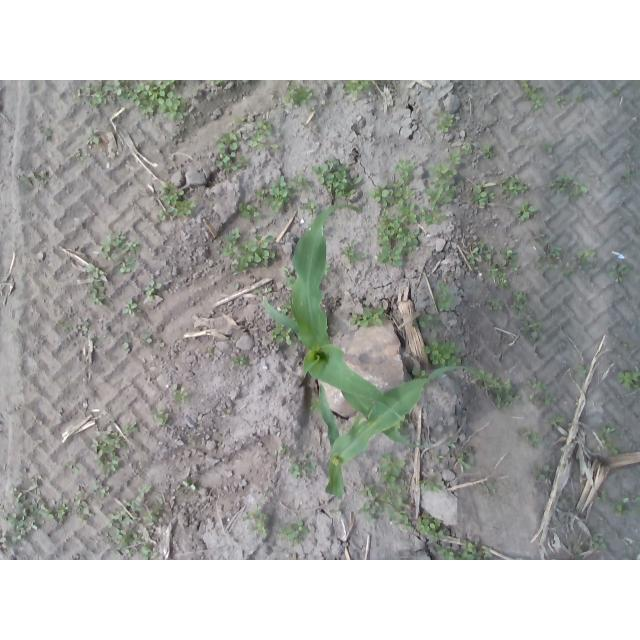Maize: (263, 204, 427, 449), (318, 364, 502, 501)
Weeds: (356, 452, 493, 560), (370, 149, 463, 268), (1, 473, 112, 556), (76, 80, 188, 120), (107, 485, 166, 560), (214, 113, 279, 171), (92, 419, 140, 481), (221, 228, 280, 273), (467, 242, 520, 290), (309, 156, 363, 200), (94, 230, 140, 275), (154, 180, 195, 225), (475, 370, 521, 410), (253, 173, 296, 214), (510, 290, 542, 339), (547, 174, 589, 206), (562, 247, 597, 282), (534, 232, 562, 274), (240, 507, 272, 542), (277, 519, 312, 550), (524, 373, 557, 405), (85, 262, 108, 307), (348, 305, 389, 329), (424, 340, 461, 366), (287, 451, 318, 481), (283, 81, 314, 111), (500, 174, 529, 201), (519, 80, 545, 110), (470, 182, 495, 211), (452, 444, 476, 474), (431, 280, 453, 312), (341, 239, 367, 265), (597, 426, 620, 455), (611, 257, 634, 285), (432, 107, 456, 133), (237, 201, 264, 224), (268, 325, 293, 347), (341, 80, 371, 97), (617, 369, 640, 391), (518, 428, 542, 449), (56, 320, 89, 335), (514, 202, 537, 223), (419, 475, 444, 494), (413, 313, 439, 331), (290, 169, 312, 190), (27, 170, 50, 188), (86, 125, 103, 148), (172, 382, 188, 406), (533, 463, 553, 482), (587, 535, 608, 553), (143, 280, 162, 299), (297, 199, 319, 215), (176, 479, 198, 493), (432, 448, 449, 466), (153, 411, 170, 429), (231, 352, 250, 368), (609, 500, 628, 516), (622, 164, 637, 184), (485, 297, 505, 312), (121, 298, 139, 314), (479, 145, 497, 160), (74, 149, 91, 164), (594, 489, 609, 504), (278, 442, 291, 459), (63, 460, 81, 472), (539, 138, 553, 153), (284, 265, 295, 284), (308, 396, 320, 413), (550, 415, 563, 429), (252, 287, 273, 295), (462, 143, 474, 157), (486, 482, 499, 494), (576, 363, 588, 376), (558, 498, 569, 511), (281, 301, 292, 314), (412, 369, 426, 379), (203, 347, 217, 356), (556, 95, 567, 106), (143, 332, 153, 344), (156, 339, 165, 351), (576, 94, 585, 106), (44, 128, 52, 140), (612, 86, 621, 96), (325, 263, 331, 277), (622, 341, 631, 350), (631, 496, 640, 504), (210, 80, 222, 86), (123, 342, 130, 351), (630, 507, 638, 514), (234, 282, 240, 290)
